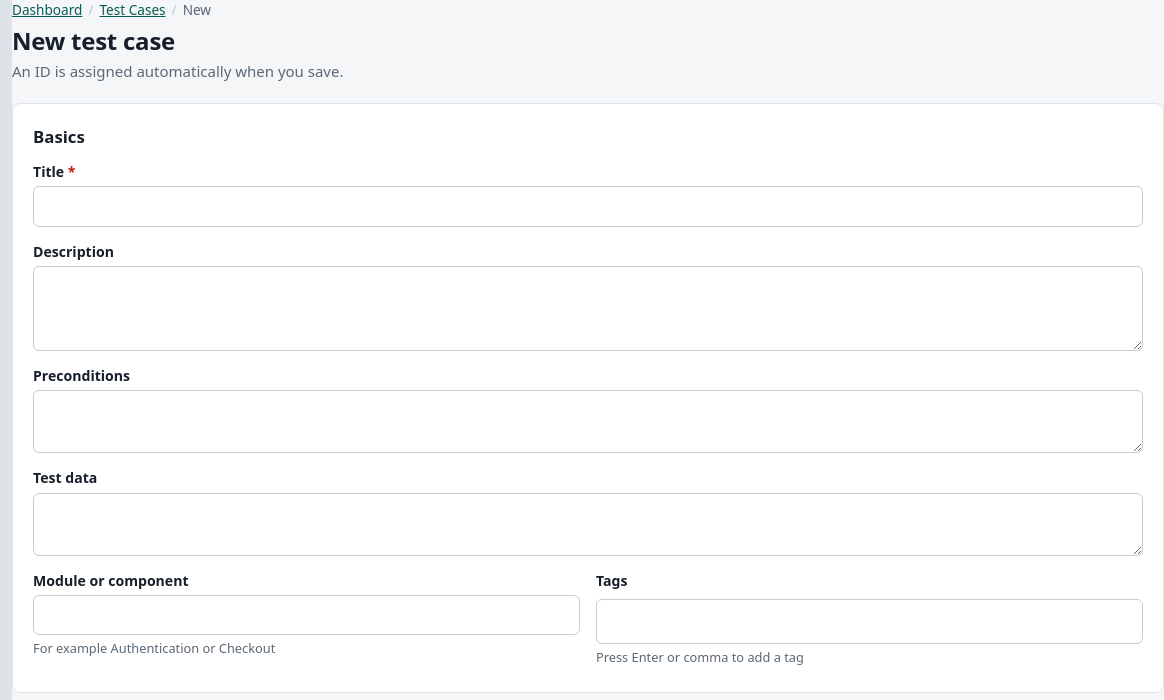
Test: steps and tags › splits pasted text on commas and semicolons into separate tags
This screenshot has width=1164, height=700.
Click the field labelled "Tags" at (870, 622), box [596, 599, 1143, 644]
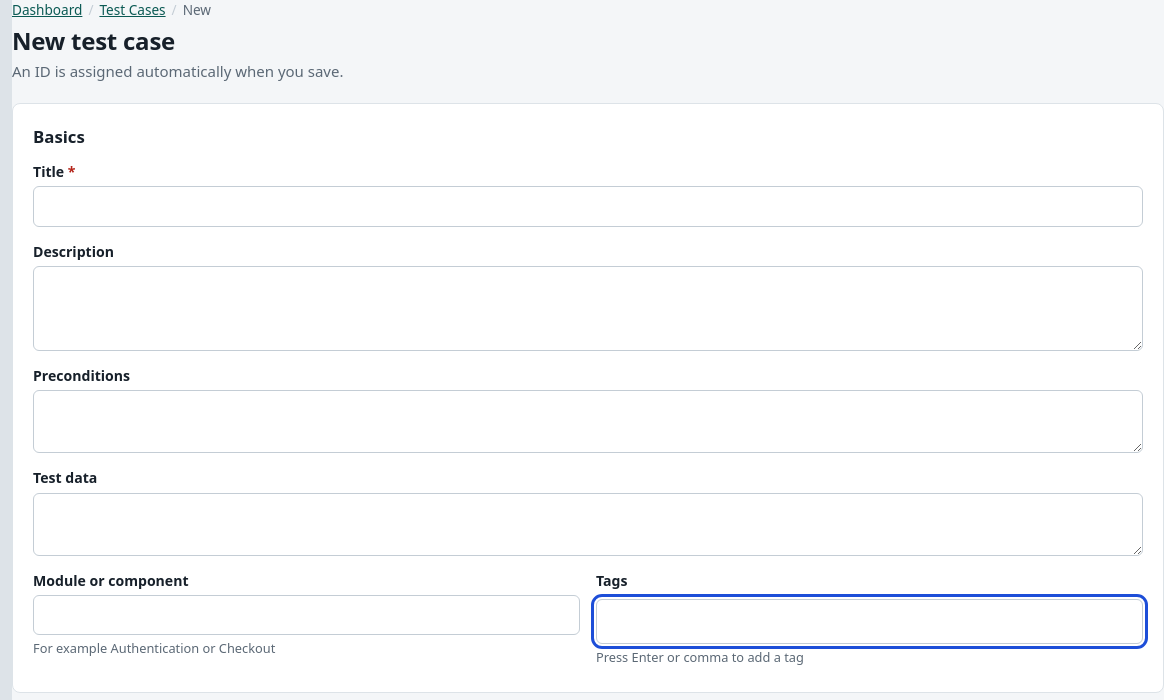
Type keys "smoke, e2e;login ,"
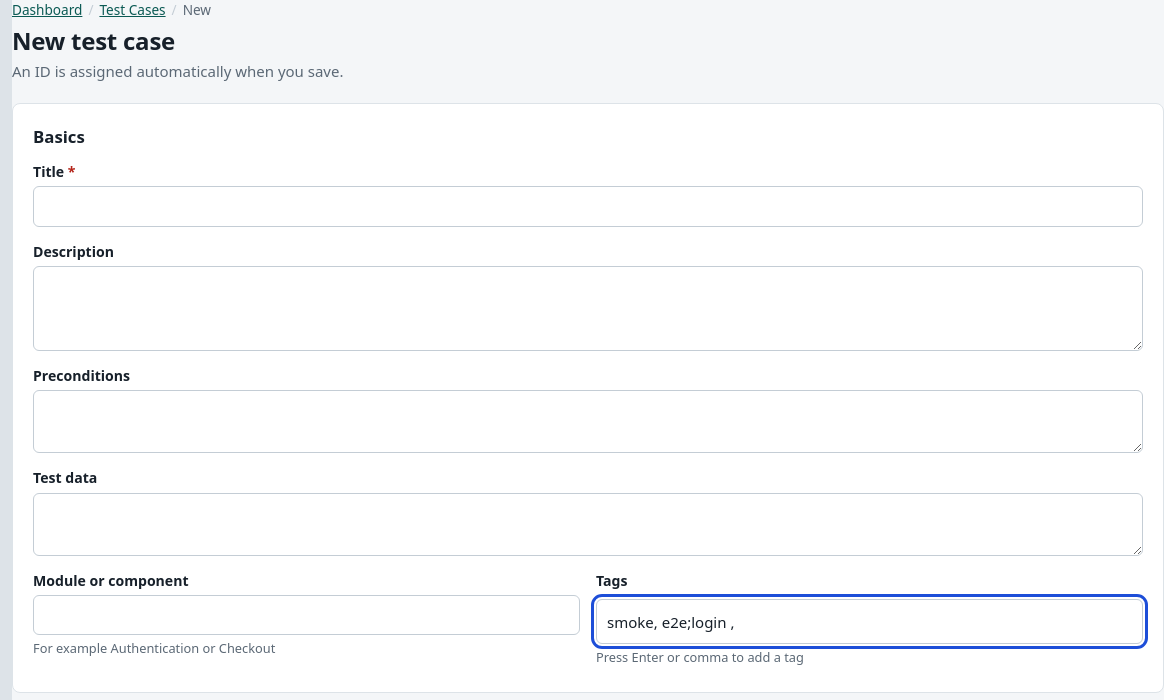
Press Tab
(page scrolled)
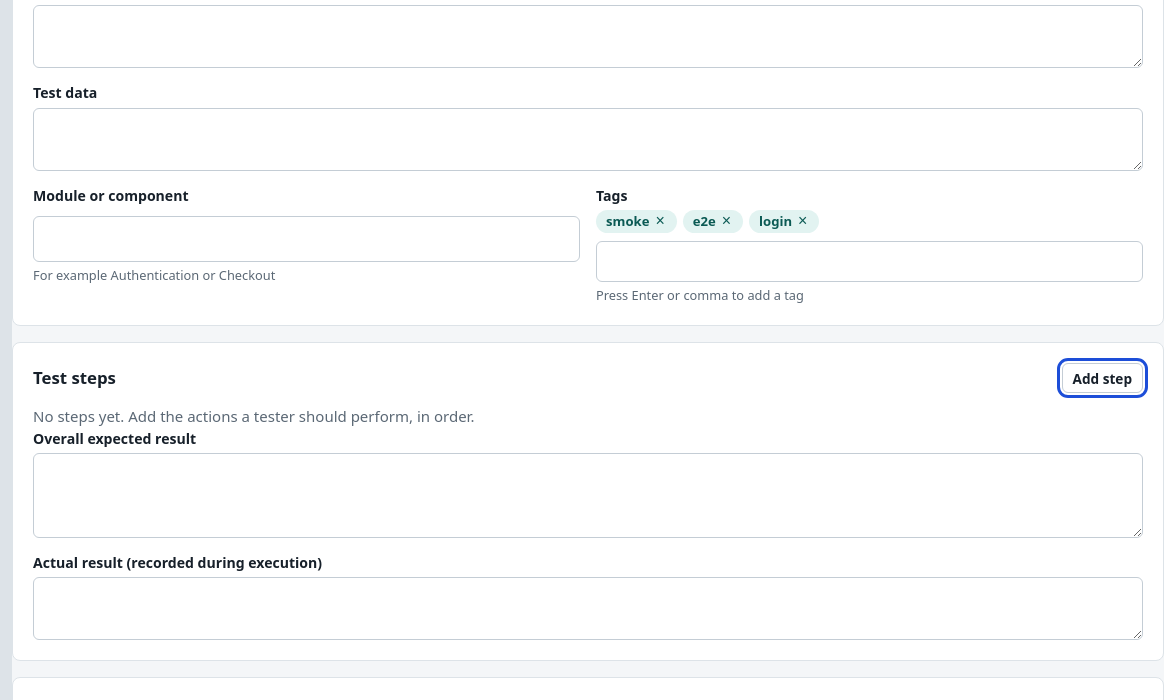
Expected: the button named "Remove tag login" is shown, [796, 214, 809, 230]
